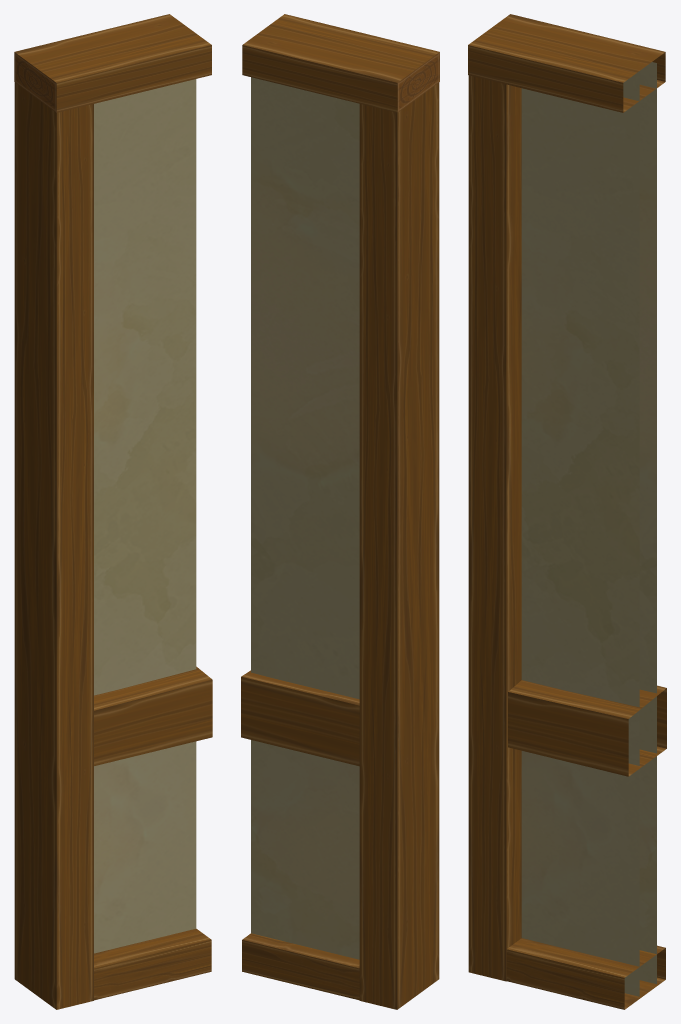
File: SM_House_Wall_Interior_Extension.fbx
The picture shows the model from 3 angles, left to right: view 1: azimuth 30°, elevation 25°; view 2: azimuth 150°, elevation 25°; view 3: azimuth 330°, elevation 25°; orthographic projection.
Visible parts, largest first — view 1: SM_House_Wall_Interior_Extension; view 2: SM_House_Wall_Interior_Extension; view 3: SM_House_Wall_Interior_Extension.
Boxes of the visible parts, left/top/right/bottom form: SM_House_Wall_Interior_Extension: left=14, top=14, right=212, bottom=1009; SM_House_Wall_Interior_Extension: left=241, top=14, right=439, bottom=1009; SM_House_Wall_Interior_Extension: left=468, top=14, right=666, bottom=1009.
Bounding box in the file's own units: 0.6988 × 3.91 × 0.3241.
